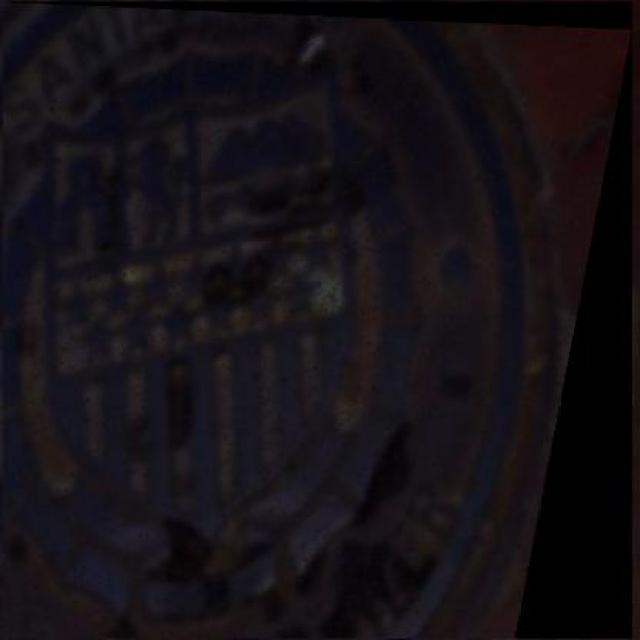Manhole: (3, 1, 632, 638)
